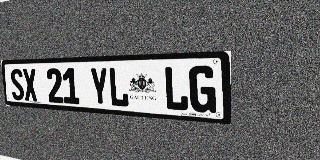1: (61, 68, 80, 104)
2: (46, 68, 64, 103)
G: (189, 65, 216, 113)
L: (163, 66, 189, 112), (108, 67, 129, 108)
S: (10, 69, 25, 101)
X: (22, 68, 38, 102)
Y: (89, 67, 109, 106)
